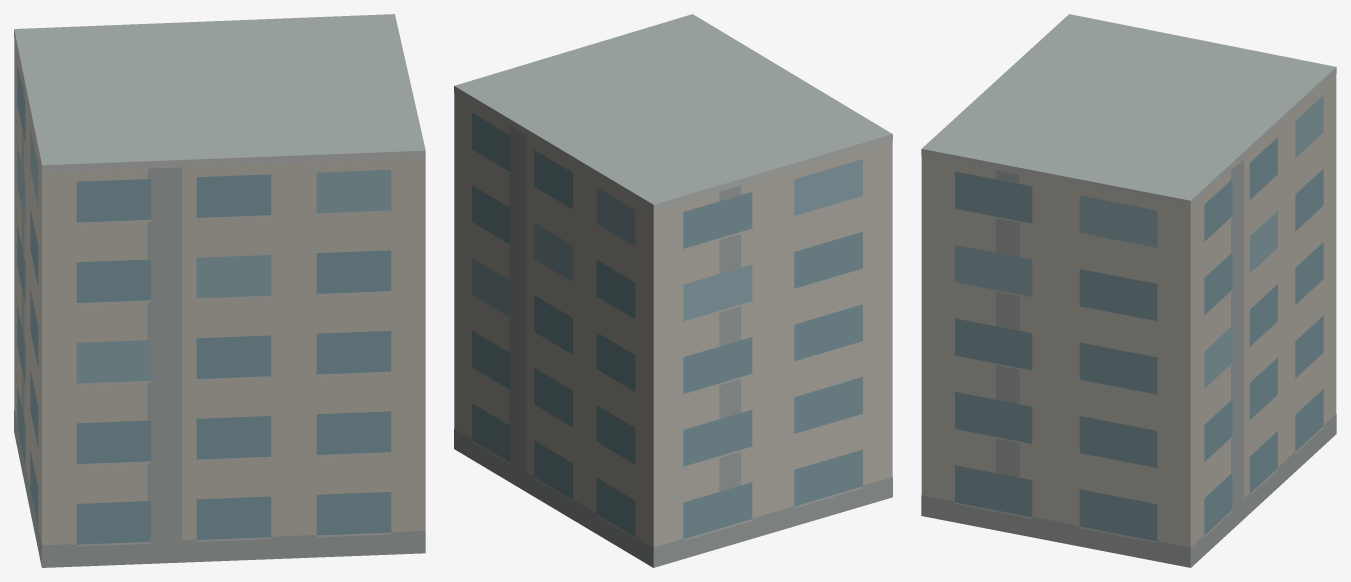
The model's file is survey-upis-32798557.glb.
3 renders of one model, left to right at view 1: azimuth 30°, elevation 25°; view 2: azimuth 150°, elevation 25°; view 3: azimuth 270°, elevation 25°, orthographic. The views are drawn at different scales.
Parts seen in each view (by area): view 1: survey-upis-32798557.tmp; view 2: survey-upis-32798557.tmp; view 3: survey-upis-32798557.tmp.
Part boxes in pixels (x1,y1,x2,y2): survey-upis-32798557.tmp: (14, 14, 425, 567); survey-upis-32798557.tmp: (454, 14, 892, 567); survey-upis-32798557.tmp: (921, 14, 1336, 567).
Size of the model in its own units: 14.43 by 13.22 by 13.55.
